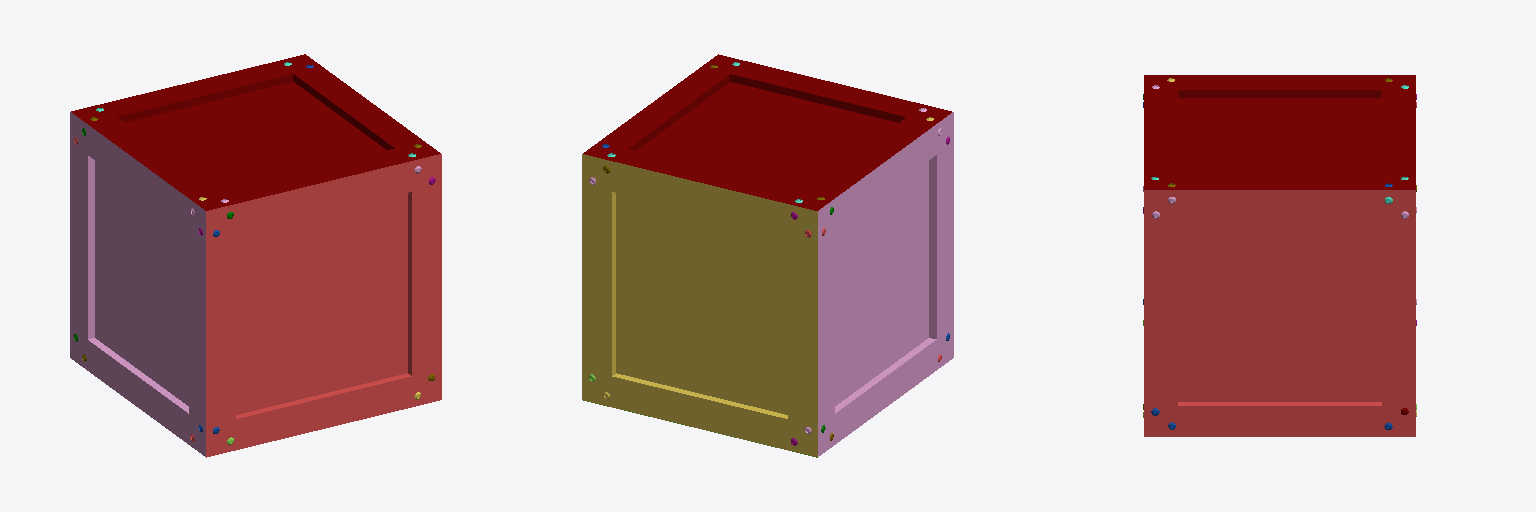
File: DefaultGround.obj
3 renders of one model, left to right at view 1: azimuth 30°, elevation 25°; view 2: azimuth 150°, elevation 25°; view 3: azimuth 270°, elevation 25°, orthographic.
Visible parts, largest first — view 1: Component_2_001, Component_2_003, Component_2_004; view 2: Component_2_002, Component_2_003, Component_2_004; view 3: Component_2_006, Component_2_004.
Part boxes in pixels (left/top/right/bottom): Component_2_001: left=206, top=154, right=441, bottom=457; Component_2_003: left=70, top=112, right=205, bottom=456; Component_2_004: left=71, top=54, right=440, bottom=210; Component_2_002: left=582, top=154, right=817, bottom=457; Component_2_003: left=818, top=112, right=953, bottom=456; Component_2_004: left=583, top=54, right=951, bottom=210; Component_2_006: left=1144, top=190, right=1415, bottom=436; Component_2_004: left=1144, top=75, right=1415, bottom=189.
Bounding box in the file's own units: 100 × 100 × 100.